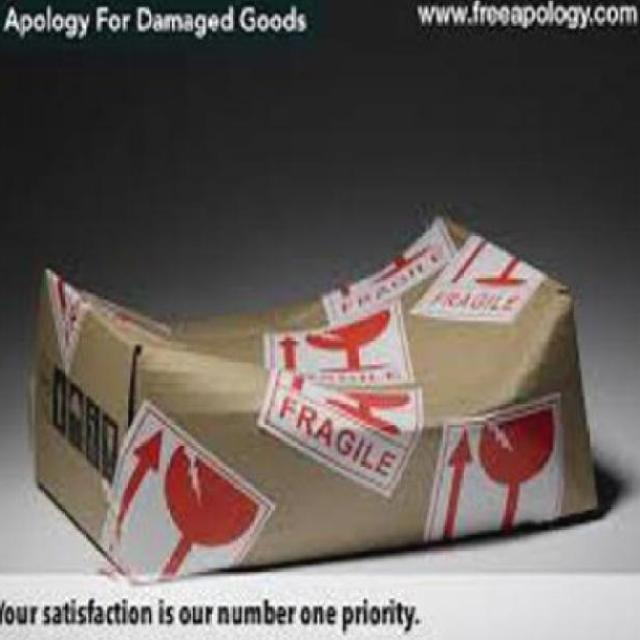box: (40, 209, 598, 584)
opened: (37, 263, 512, 375)
